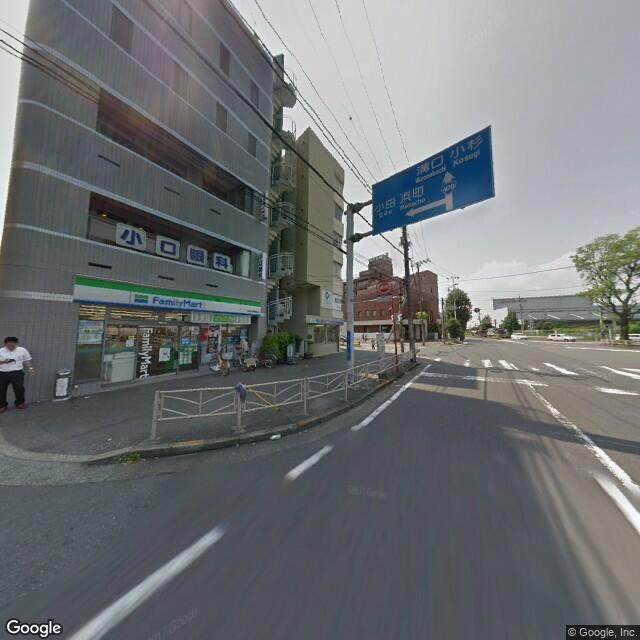family_mart: (74, 277, 261, 317), (152, 293, 206, 310), (141, 322, 152, 382)
